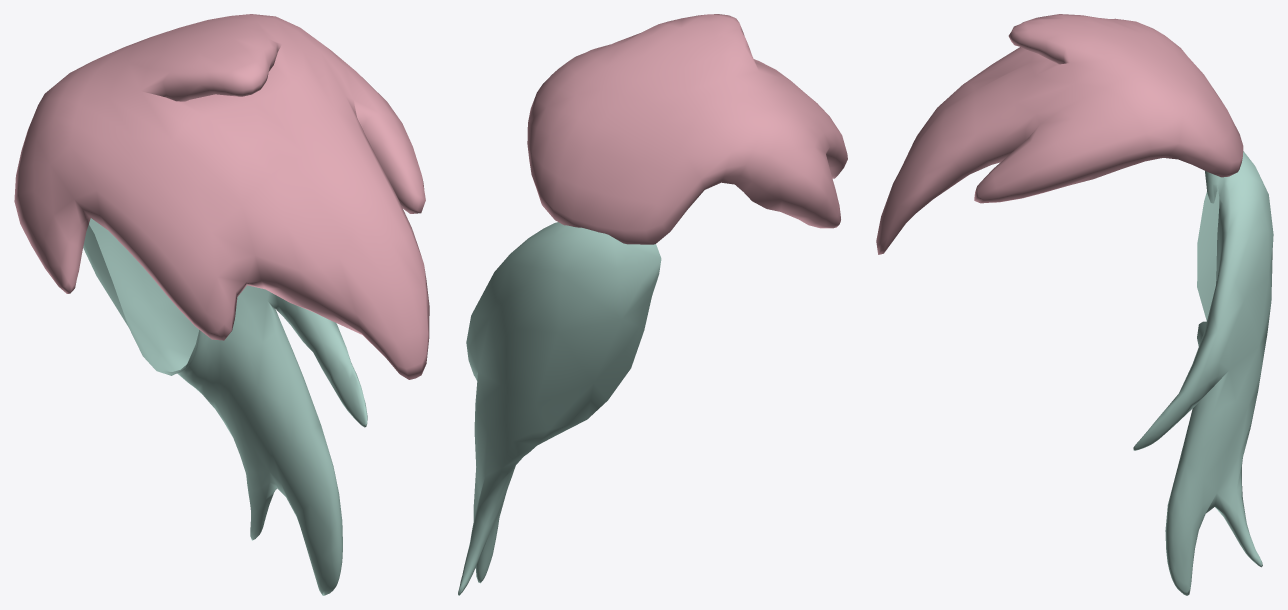
Rendered from Mane_01.fbx.
The picture shows the model from 3 angles, left to right: view 1: azimuth 30°, elevation 25°; view 2: azimuth 150°, elevation 25°; view 3: azimuth 270°, elevation 25°; orthographic projection. The views are drawn at different scales.
Parts seen in each view (by area): view 1: Mane_01; view 2: Mane_01; view 3: Mane_01.
Boxes of the visible parts, bbox=[...] form: Mane_01: bbox=[14, 14, 429, 595]; Mane_01: bbox=[458, 14, 847, 595]; Mane_01: bbox=[876, 14, 1273, 595].
Size of the model in its own units: 141 by 237 by 170.
